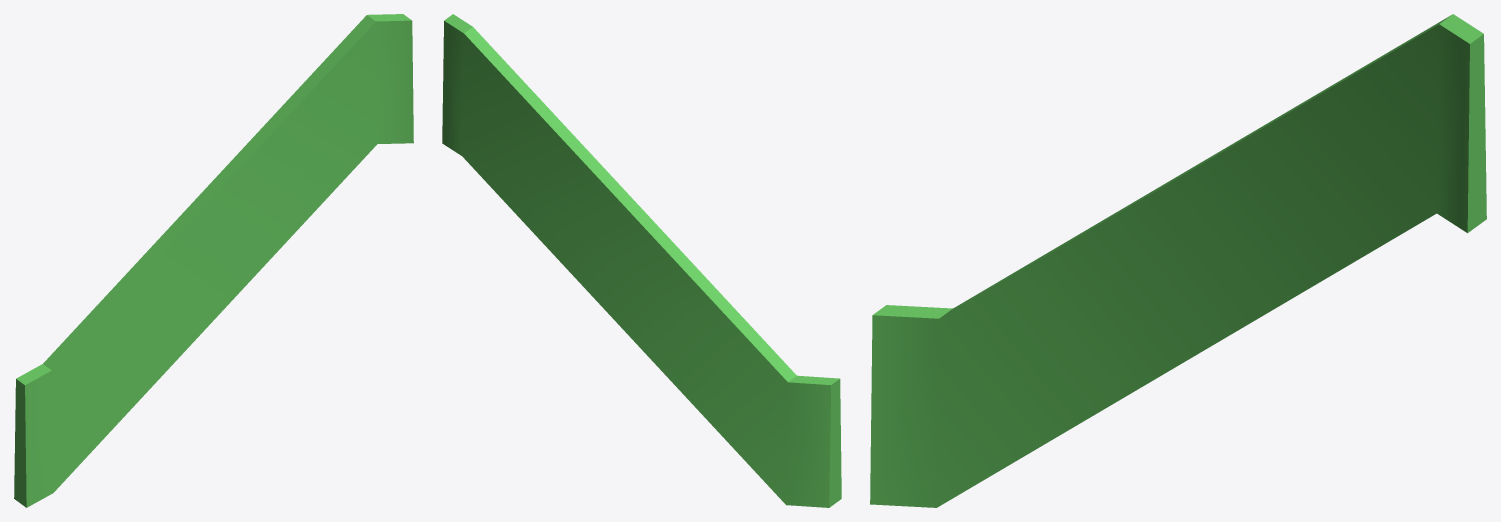
The model's file is Gen_Handrail_Stairs_COL.fbx.
3 renders of one model, left to right at view 1: azimuth 30°, elevation 25°; view 2: azimuth 150°, elevation 25°; view 3: azimuth 330°, elevation 25°, orthographic. The views are drawn at different scales.
Visible parts, largest first — view 1: Gen_Handrail_Stairs_COL; view 2: Gen_Handrail_Stairs_COL; view 3: Gen_Handrail_Stairs_COL.
Boxes of the visible parts, x1,y1,x2,y2 form: Gen_Handrail_Stairs_COL: (14,14,413,507); Gen_Handrail_Stairs_COL: (442,14,841,507); Gen_Handrail_Stairs_COL: (870,14,1486,507).
Size of the model in its own units: 300 by 290 by 27.72.
